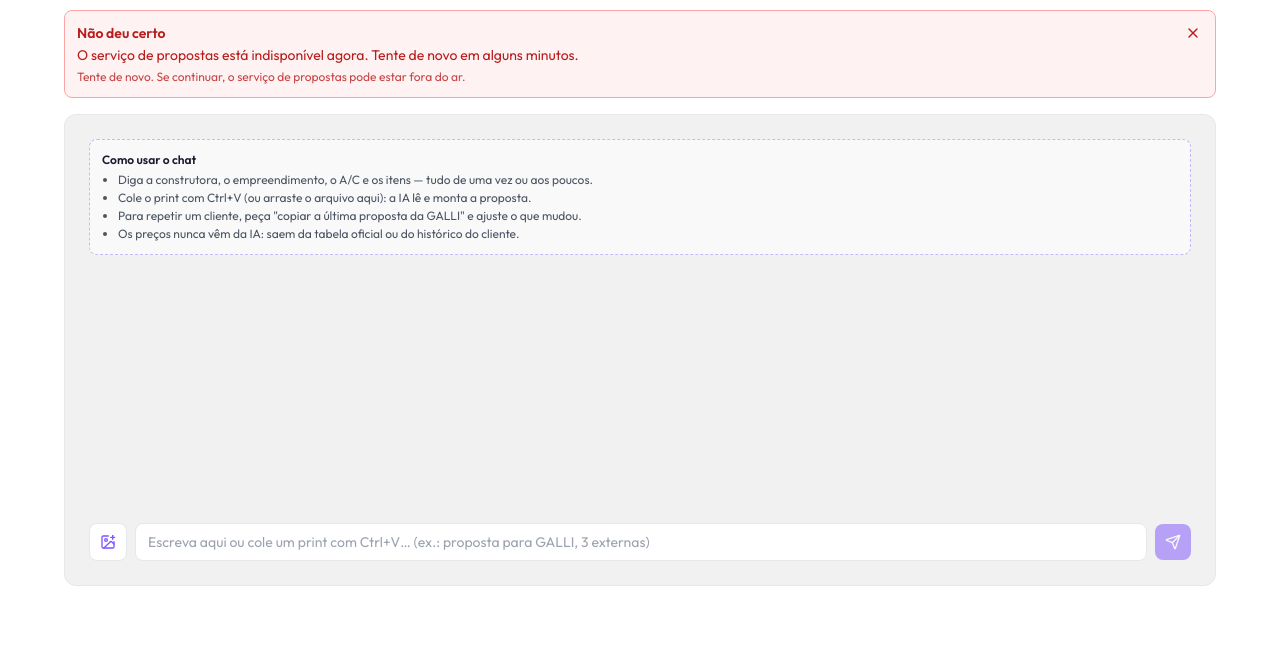
it: PropostaAgent — orientação de fluxo › erro tem título, orientação e botão de fechar
The image size is (1280, 666).
(page scrolled)
Expected: the message is shown, left=64, top=10, right=1216, bottom=98
Expected: the text "Não deu certo" is shown, left=77, top=24, right=166, bottom=42
Step 1. Click the button named "Fechar erro" → click(1193, 33), box left=1183, top=23, right=1203, bottom=43
(page scrolled)
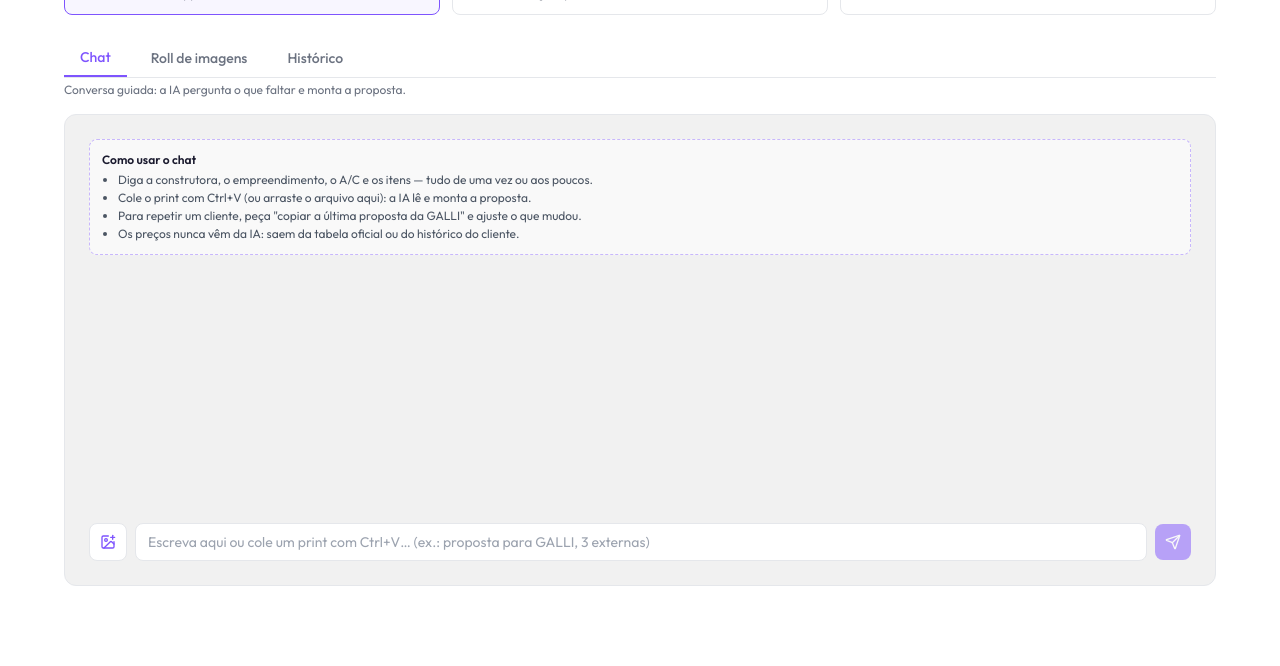
Result: the message is gone
